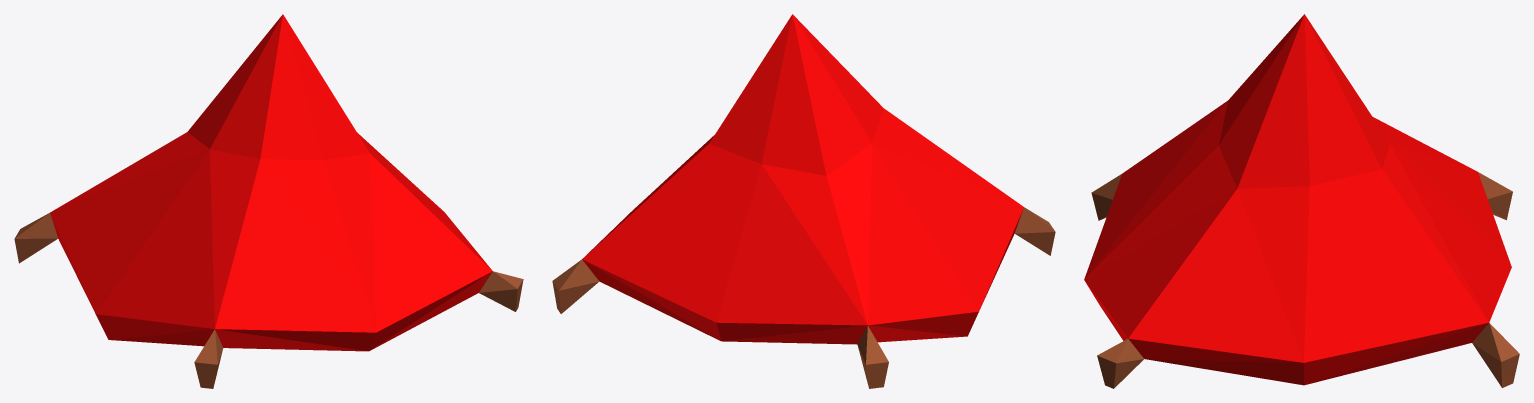
File: Prop_Building_Savage_Tribal_Roof_Cloth_Timber_Peaked_01.FBX
3 renders of one model, left to right at view 1: azimuth 30°, elevation 25°; view 2: azimuth 150°, elevation 25°; view 3: azimuth 270°, elevation 25°, orthographic. The views are drawn at different scales.
Parts seen in each view (by area): view 1: Prop_Building_Savage_Tribal_Roof_Cloth_Timber_Peaked_01; view 2: Prop_Building_Savage_Tribal_Roof_Cloth_Timber_Peaked_01; view 3: Prop_Building_Savage_Tribal_Roof_Cloth_Timber_Peaked_01.
Part boxes in pixels (bbox=[...]): Prop_Building_Savage_Tribal_Roof_Cloth_Timber_Peaked_01: bbox=[14, 14, 523, 388]; Prop_Building_Savage_Tribal_Roof_Cloth_Timber_Peaked_01: bbox=[552, 14, 1055, 388]; Prop_Building_Savage_Tribal_Roof_Cloth_Timber_Peaked_01: bbox=[1084, 14, 1519, 388].
Size of the model in its own units: 7321 by 5669 by 7178.
